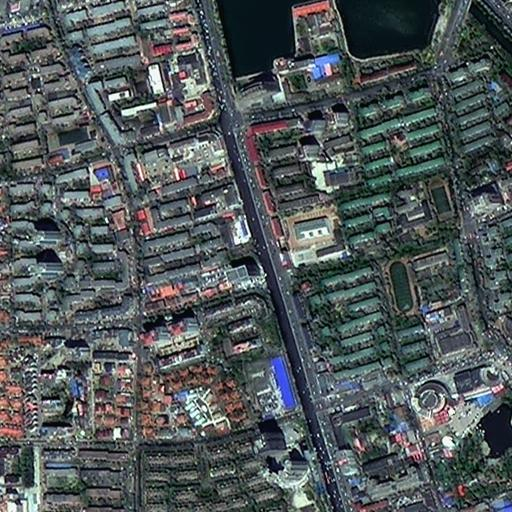school: (384, 245, 465, 317), (390, 174, 457, 229)
